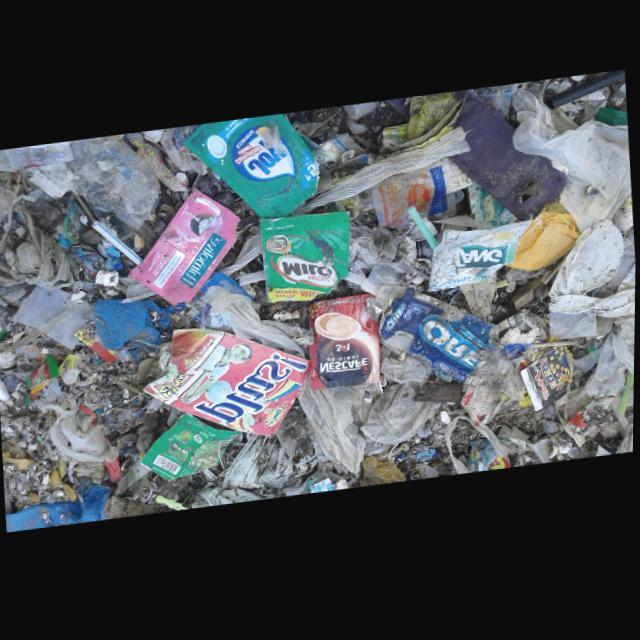food_wrapper: (144, 329, 311, 439), (382, 293, 496, 389)
plastic_sachet: (183, 117, 320, 222), (128, 190, 241, 308), (260, 215, 350, 306), (429, 226, 532, 297), (308, 298, 381, 394), (141, 416, 242, 483)
